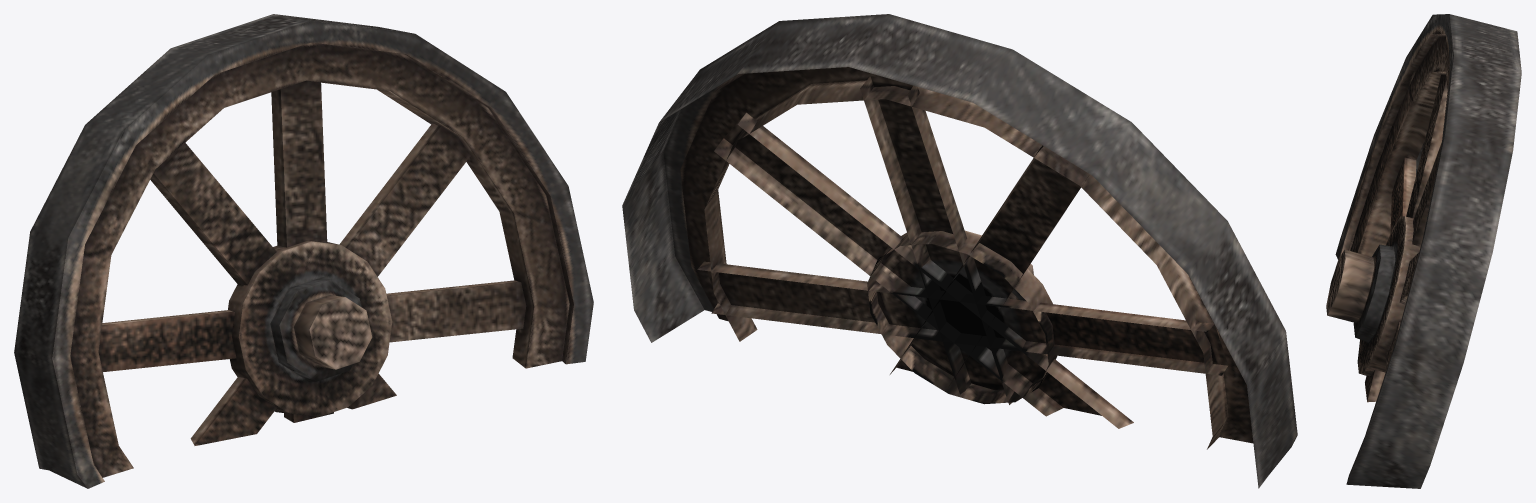
File: Wheel.FBX
3 views of the same model, side by side, from view 1: azimuth 30°, elevation 25°; view 2: azimuth 150°, elevation 25°; view 3: azimuth 270°, elevation 25° (orthographic). The views are drawn at different scales.
Parts seen in each view (by area): view 1: Wheel; view 2: Wheel; view 3: Wheel.
Part boxes in pixels (<box>): Wheel: <box>14,14,593,488</box>; Wheel: <box>622,14,1297,488</box>; Wheel: <box>1326,14,1521,488</box>.
Size of the model in its own units: 65.89 by 22.14 by 41.87.
1 material, 1 textured.
